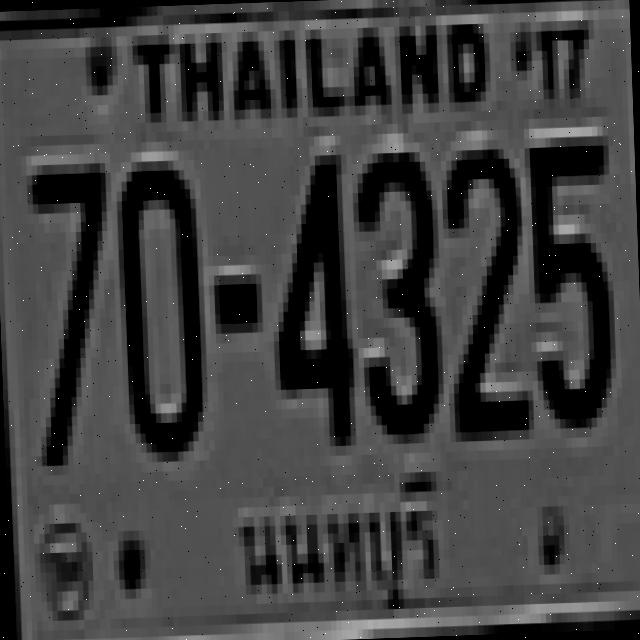0: (112, 150, 207, 462)
2: (442, 133, 532, 440)
3: (353, 141, 444, 442)
4: (266, 145, 357, 450)
5: (523, 126, 618, 430)
7: (26, 158, 116, 464)
Nonthaburi: (231, 455, 444, 620)
